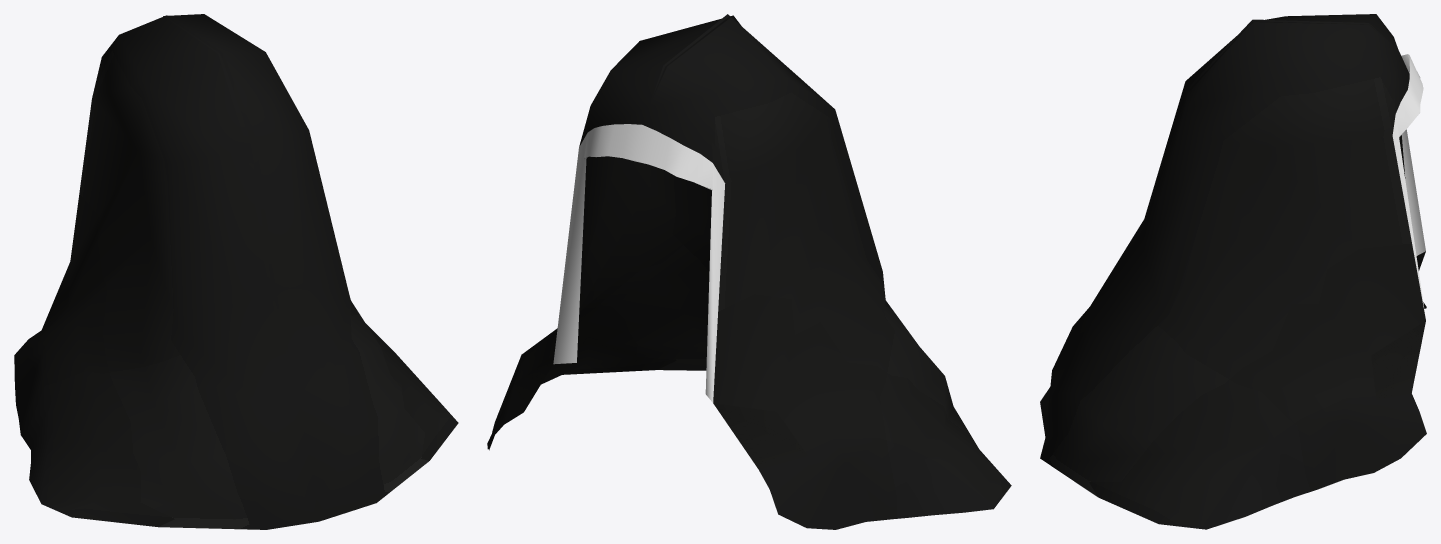
File: sisterhat.glb
3 renders of one model, left to right at view 1: azimuth 30°, elevation 25°; view 2: azimuth 150°, elevation 25°; view 3: azimuth 270°, elevation 25°, orthographic. The views are drawn at different scales.
Visible parts, largest first — view 1: hat; view 2: hat; view 3: hat.
Boxes of the visible parts, bbox=[...] form: hat: bbox=[14, 14, 458, 529]; hat: bbox=[487, 14, 1011, 529]; hat: bbox=[1040, 14, 1426, 529].
Size of the model in its own units: 0.4631 by 0.4365 by 0.367.
1 material, 1 textured.
